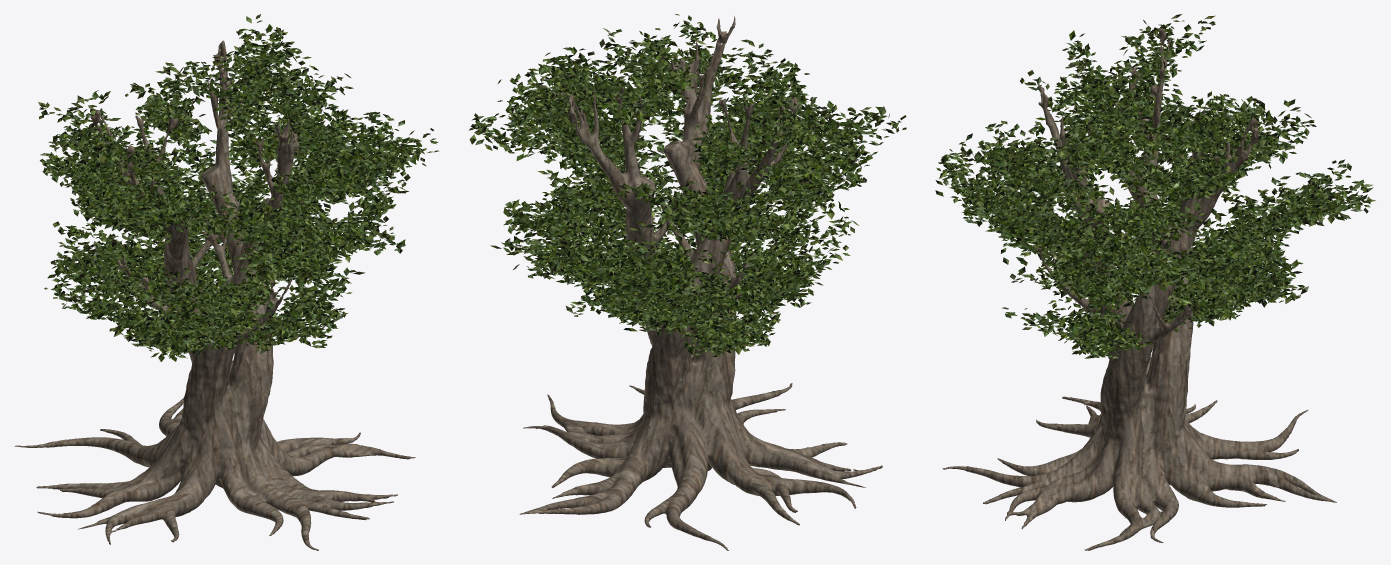
Rendered from dead-oak-v04-leafy.glb.
3 views of the same model, side by side, from view 1: azimuth 30°, elevation 25°; view 2: azimuth 150°, elevation 25°; view 3: azimuth 270°, elevation 25° (orthographic). The views are drawn at different scales.
Visible parts, largest first — view 1: Dead oak V03 | attached photo foliage, Dead oak V03 | connected trunk and limbs; view 2: Dead oak V03 | attached photo foliage, Dead oak V03 | connected trunk and limbs; view 3: Dead oak V03 | attached photo foliage, Dead oak V03 | connected trunk and limbs.
Part boxes in pixels (x1,y1,x2,y2): Dead oak V03 | attached photo foliage: (38, 14, 438, 361); Dead oak V03 | connected trunk and limbs: (14, 40, 415, 550); Dead oak V03 | attached photo foliage: (469, 14, 906, 356); Dead oak V03 | connected trunk and limbs: (519, 16, 882, 550); Dead oak V03 | attached photo foliage: (935, 14, 1375, 358); Dead oak V03 | connected trunk and limbs: (942, 28, 1336, 550).
Size of the model in its own units: 6.4 by 6.65 by 6.43.
Materials: 6 (6 with a texture image).
